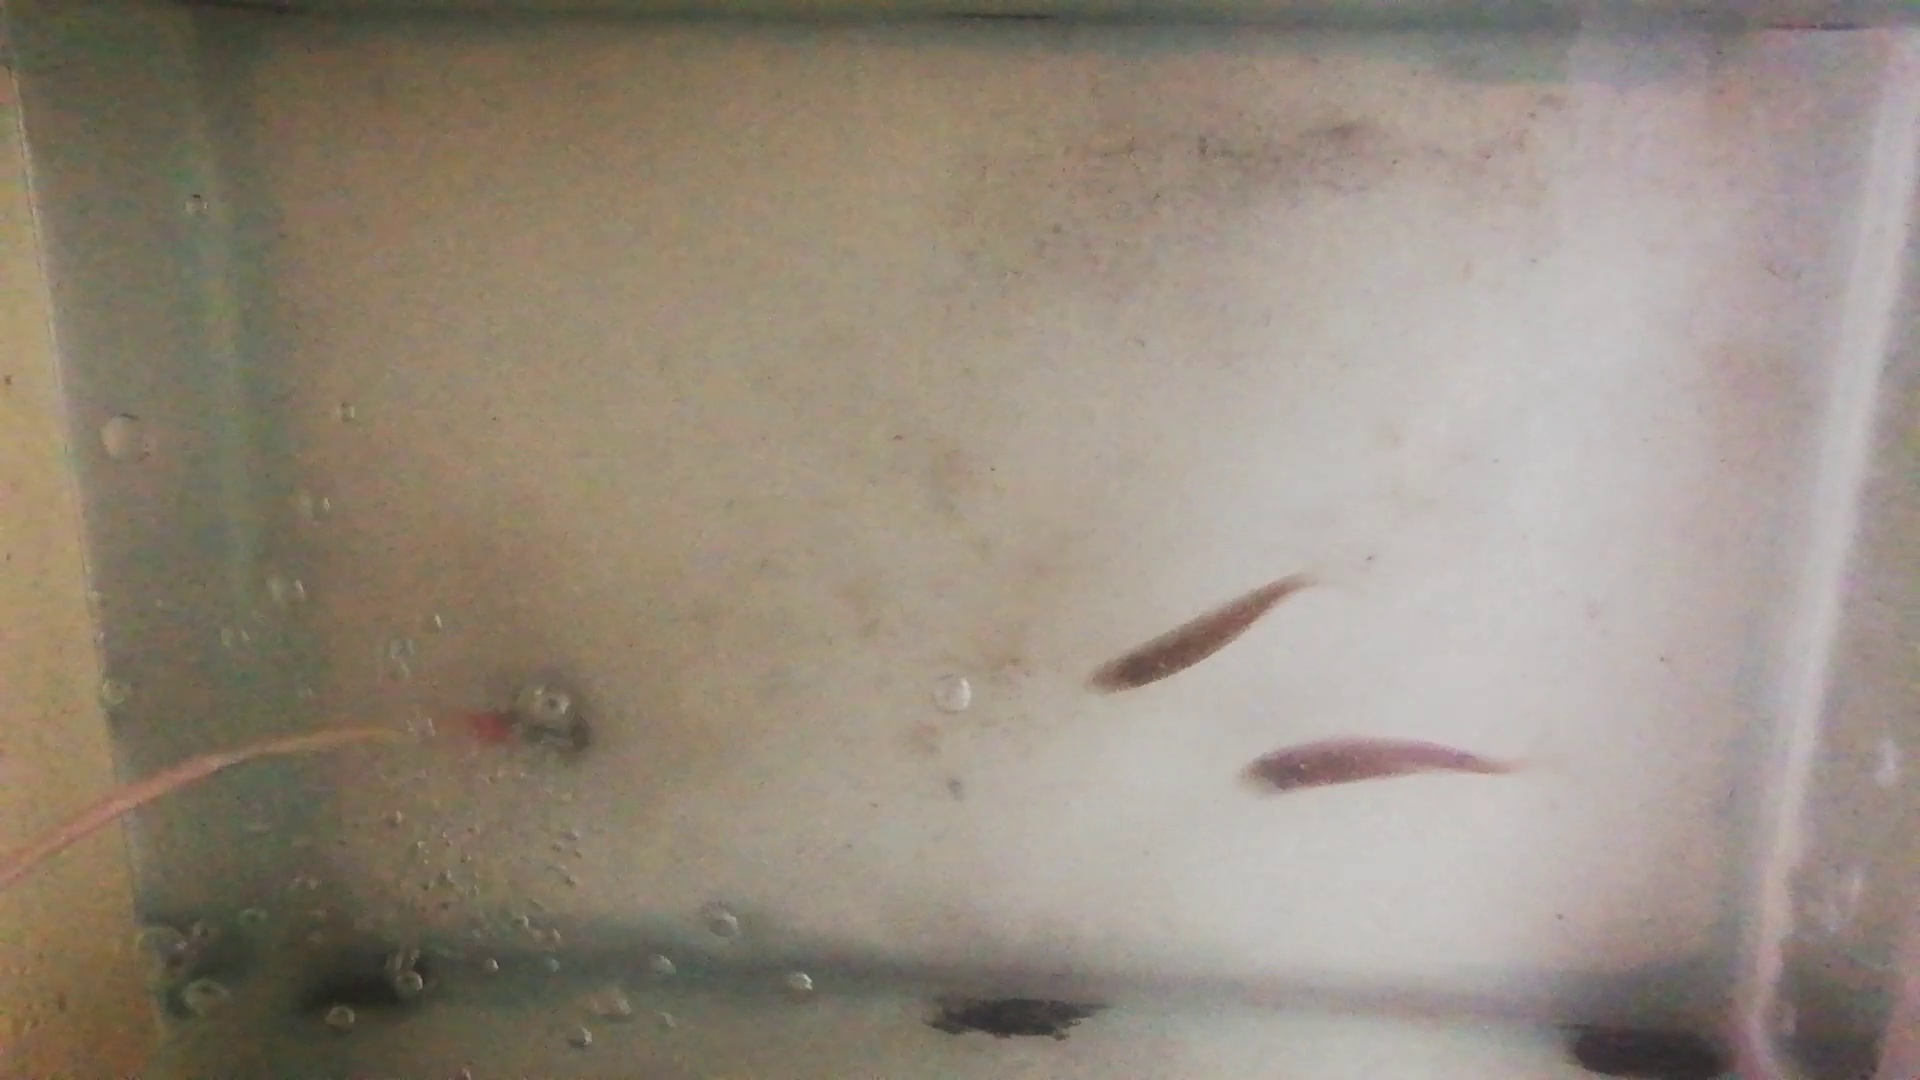fish: (1084, 576, 1288, 694), (1240, 741, 1495, 796)
